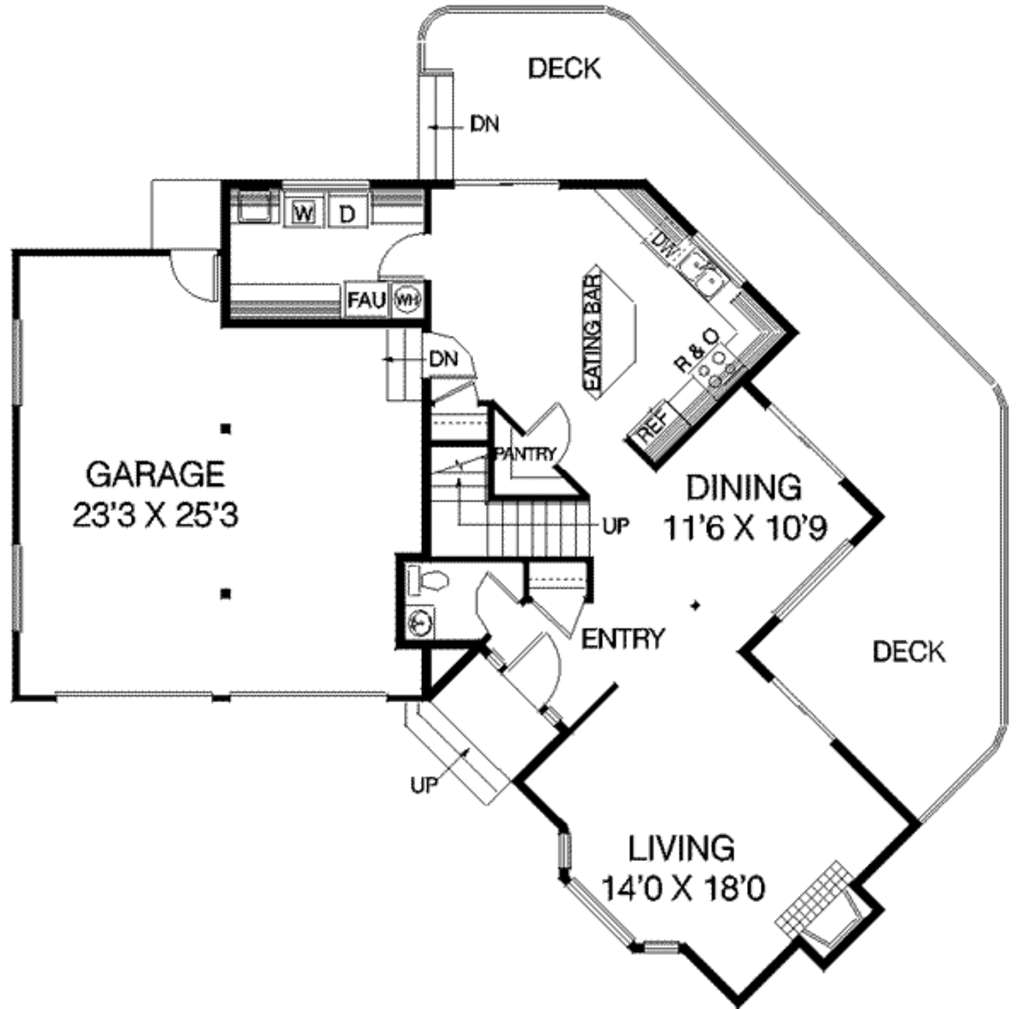door: (491, 617, 570, 703), (155, 242, 225, 311), (469, 571, 526, 636), (370, 234, 431, 279)
large_sink: (409, 557, 455, 606)
small_sink: (405, 612, 445, 642)
stairs: (422, 403, 598, 568), (406, 678, 548, 820), (401, 62, 486, 189), (366, 323, 434, 404)
twin_sink: (662, 240, 733, 311)
window: (533, 814, 700, 965), (773, 534, 875, 623), (766, 398, 862, 489), (769, 673, 848, 748), (3, 532, 31, 634), (3, 312, 25, 400)
